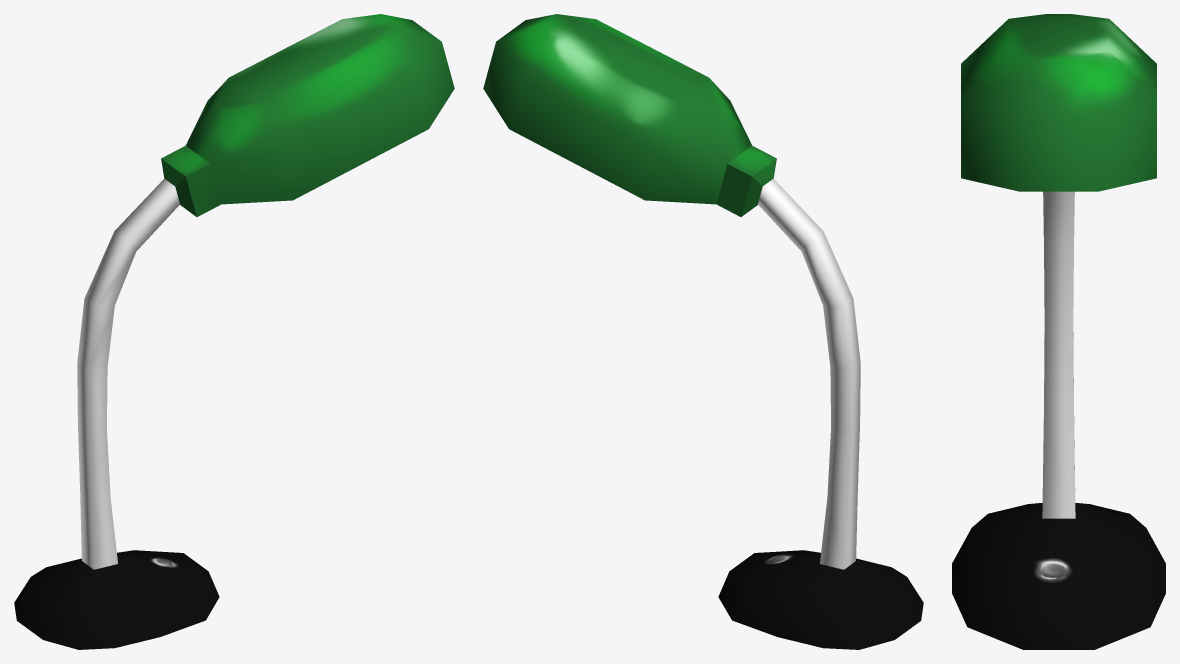
File: Lamp.FBX
3 views of the same model, side by side, from view 1: azimuth 30°, elevation 25°; view 2: azimuth 150°, elevation 25°; view 3: azimuth 270°, elevation 25° (orthographic). The views are drawn at different scales.
Parts seen in each view (by area): view 1: lamp; view 2: lamp; view 3: lamp.
Part boxes in pixels (x1,y1,x2,y2): lamp: (14, 14, 454, 649); lamp: (483, 14, 923, 649); lamp: (952, 14, 1165, 649).
Size of the model in its own units: 43.06 by 52.63 by 14.36.
Materials: 1 (1 with a texture image).
